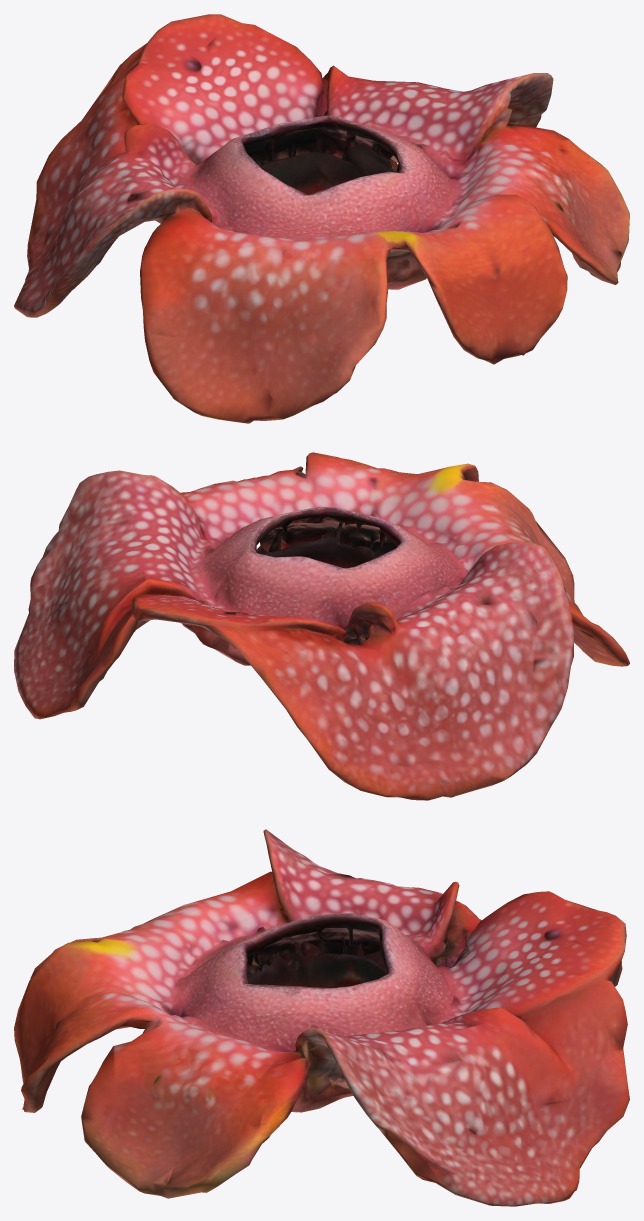
Rendered from Rafflesia Arnoldii.glb.
3 views of the same model, one above another, from view 1: azimuth 30°, elevation 25°; view 2: azimuth 150°, elevation 25°; view 3: azimuth 270°, elevation 25° (orthographic). The views are drawn at different scales.
Bounding box in the file's own units: 2 × 0.6786 × 1.96.
1 material, 1 textured.
